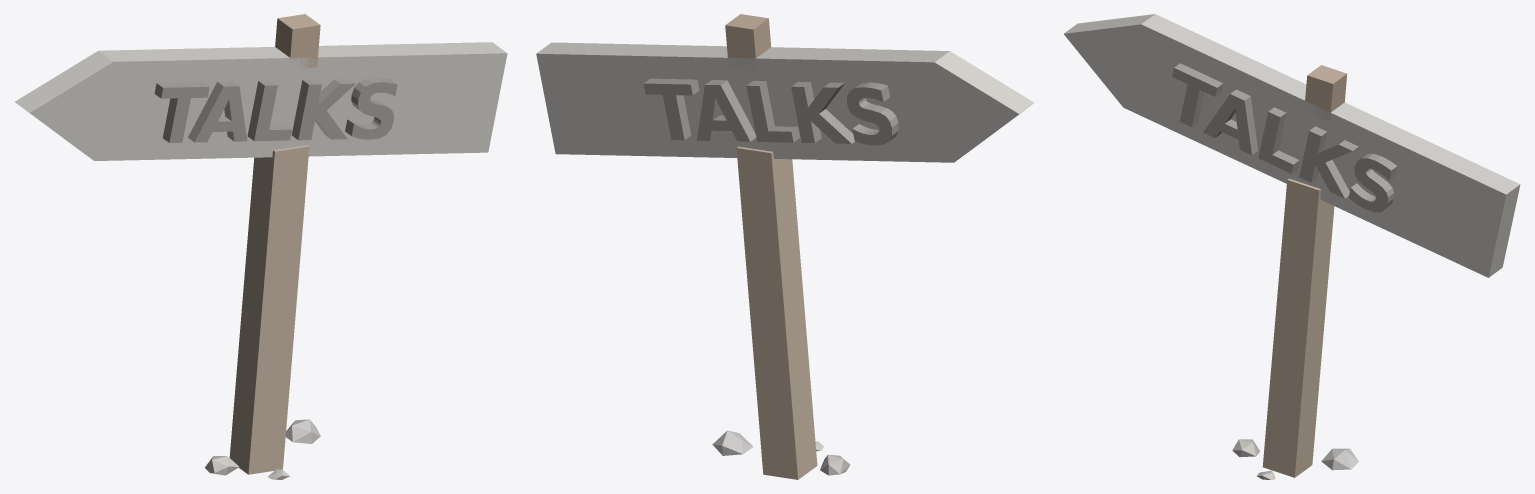
The model's file is signboard_talks_refined.glb.
3 views of the same model, side by side, from view 1: azimuth 30°, elevation 25°; view 2: azimuth 150°, elevation 25°; view 3: azimuth 330°, elevation 25° (orthographic). The views are drawn at different scales.
Visible parts, largest first — view 1: g0, g3, g8, g1, g4, g6; view 2: g0, g3, g9, g1, g4, g6; view 3: g0, g3, g8, g1, g4, g6.
Boxes of the visible parts, x1,y1,x2,y2 form: g0: (94,42,507,160); g3: (229,145,309,474); g8: (154,77,397,142); g1: (15,50,113,160); g4: (275,14,320,70); g6: (285,419,320,444); g0: (536,42,953,162); g3: (736,146,817,479); g9: (643,78,898,145); g1: (934,51,1034,162); g4: (725,14,771,71); g6: (712,430,753,455); g0: (1123,14,1520,277); g3: (1262,178,1334,477); g8: (1172,63,1397,212); g1: (1064,14,1154,107); g4: (1305,65,1347,120); g6: (1321,448,1358,470).
Bounding box in the file's own units: 1.45 × 1.29 × 0.2181.
